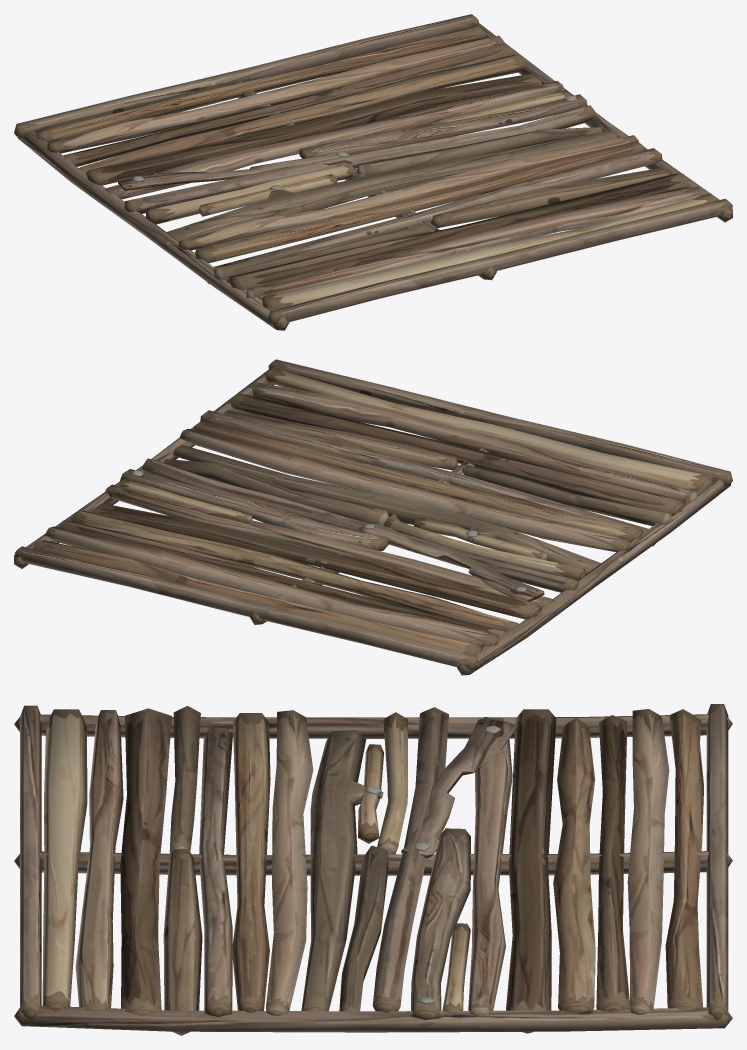
Rendered from wood-floor.glb.
The picture shows the model from 3 angles, top to bottom: view 1: azimuth 30°, elevation 25°; view 2: azimuth 150°, elevation 25°; view 3: azimuth 270°, elevation 25°; orthographic projection. The views are drawn at different scales.
Visible parts, largest first — view 1: PBW_W1_Floor.dmx-static; view 2: PBW_W1_Floor.dmx-static; view 3: PBW_W1_Floor.dmx-static.
Boxes of the visible parts, x1=… form: PBW_W1_Floor.dmx-static: x1=14, y1=14, x2=732, y2=330; PBW_W1_Floor.dmx-static: x1=14, y1=359, x2=732, y2=675; PBW_W1_Floor.dmx-static: x1=14, y1=704, x2=732, y2=1035.
Size of the model in its own units: 5.53 by 0.2978 by 5.48.
1 material, 1 textured.
